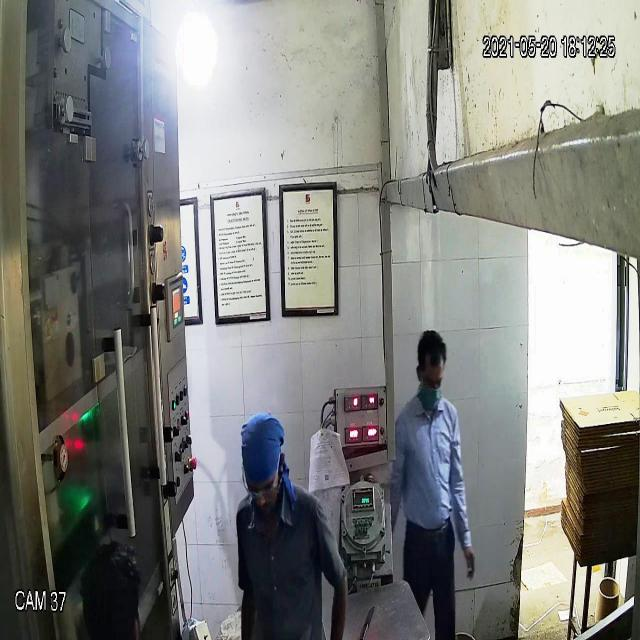glasses: (240, 465, 282, 502)
no-glass: (415, 363, 445, 391)
